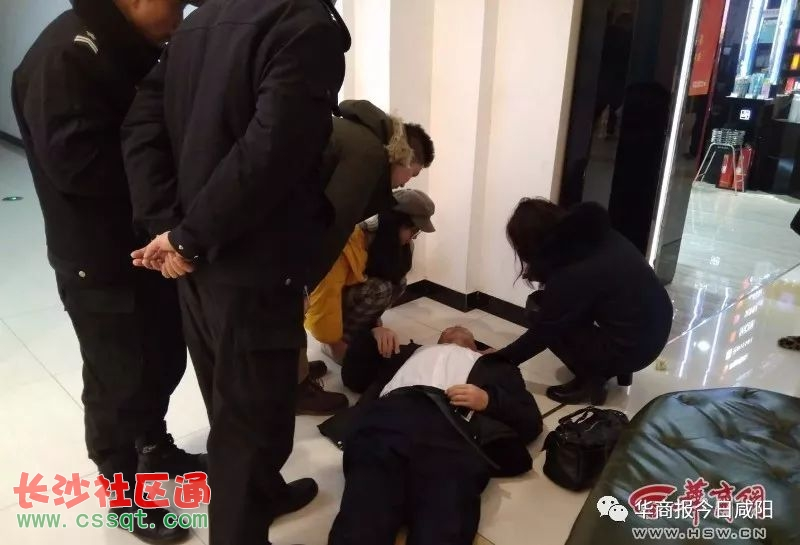fall: (313, 302, 553, 543)
